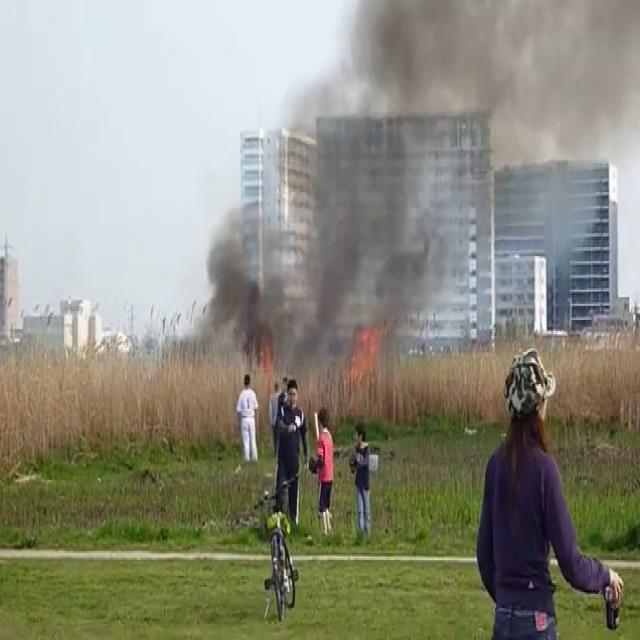Smoke: (188, 0, 640, 366)
